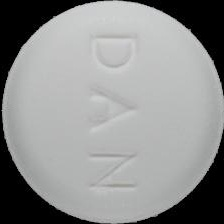0591-5513: (0, 0, 224, 224)
